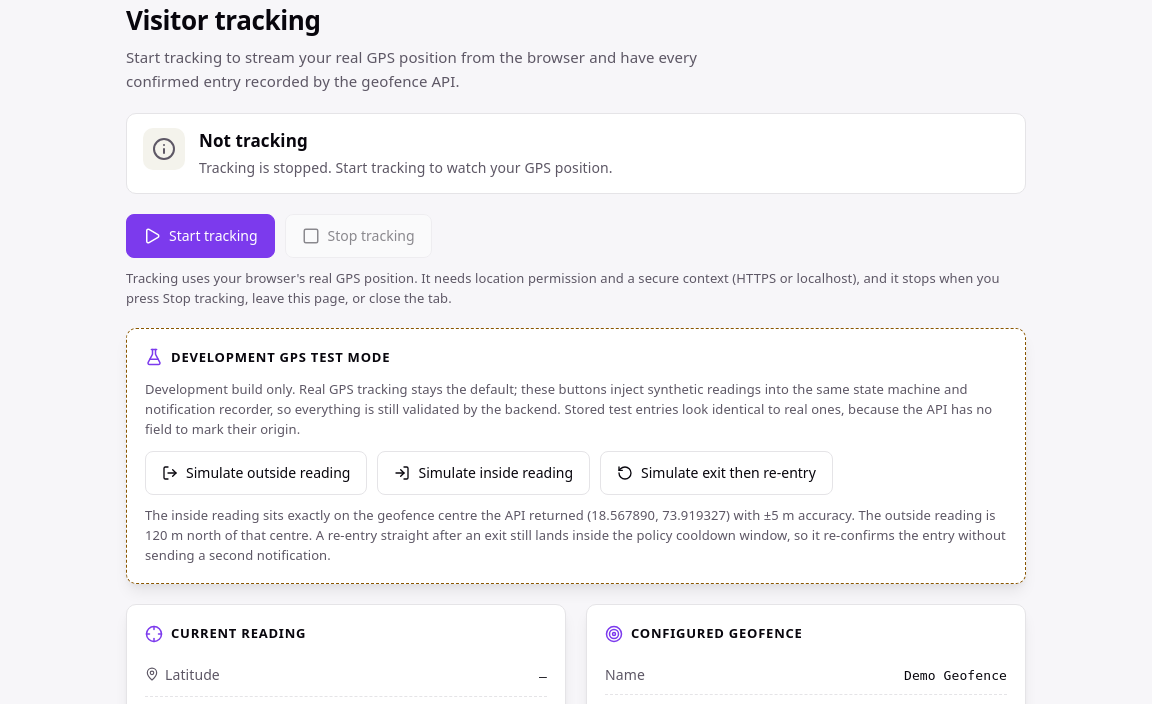
Test: development GPS test mode › records a simulated entry with the existing payload contract
What coordinates should you click on to do the following:
click the button "Simulate inside reading"
I would click on:
 (484, 473)
Its box is [378,451,590,495].
(page scrolled)
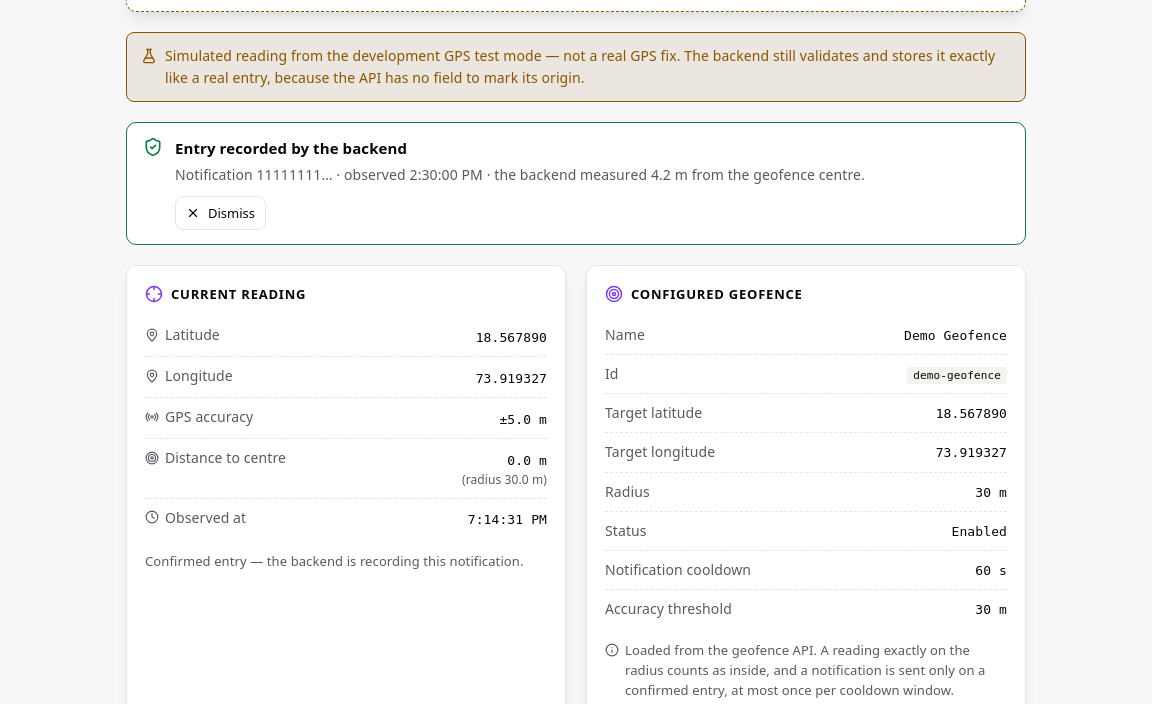
Expected: the text "demo-geofence" is shown, [907,367,1007,384]
Expected: the text "Entry recorded by the backend" is shown, [175,138,407,158]
